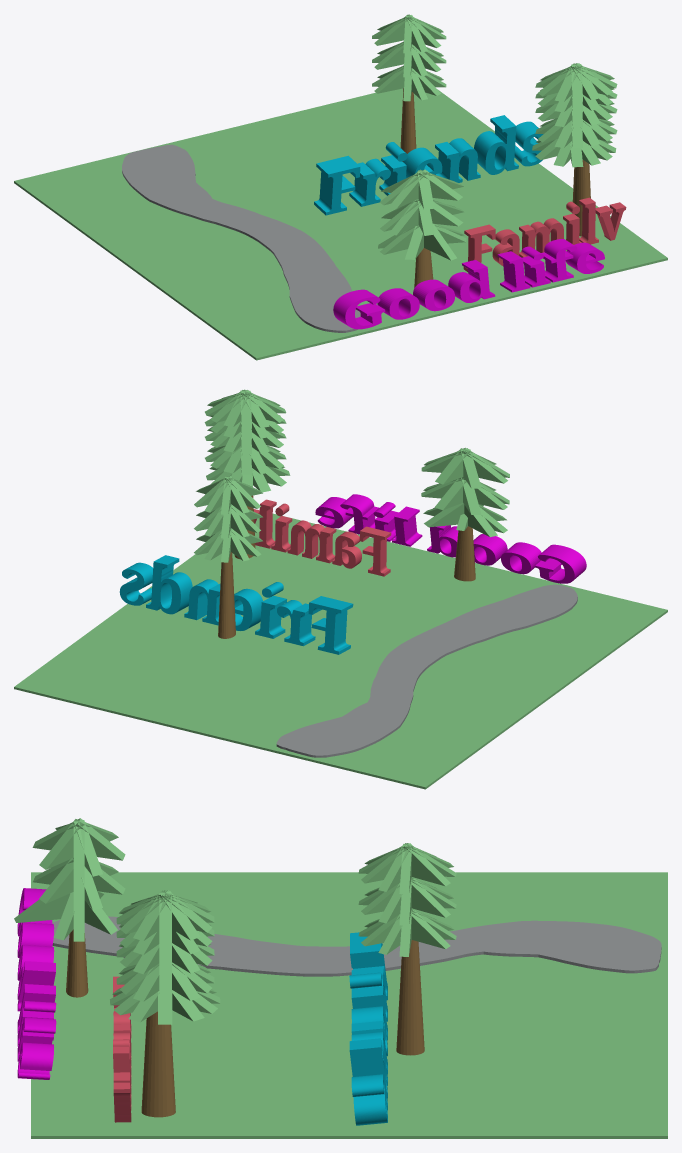
File: VincentTree.glb
3 views of the same model, one above another, from view 1: azimuth 30°, elevation 25°; view 2: azimuth 150°, elevation 25°; view 3: azimuth 270°, elevation 25° (orthographic). The views are drawn at different scales.
Parts seen in each view (by area): view 1: Mesh_Mesh_head_geo.001_lambert2SG.001; view 2: Mesh_Mesh_head_geo.001_lambert2SG.001; view 3: Mesh_Mesh_head_geo.001_lambert2SG.001.
Boxes of the visible parts, bbox=[...] form: Mesh_Mesh_head_geo.001_lambert2SG.001: bbox=[14, 14, 667, 360]; Mesh_Mesh_head_geo.001_lambert2SG.001: bbox=[14, 389, 667, 789]; Mesh_Mesh_head_geo.001_lambert2SG.001: bbox=[14, 818, 667, 1138].
Size of the model in its own units: 199 by 81.54 by 207.
